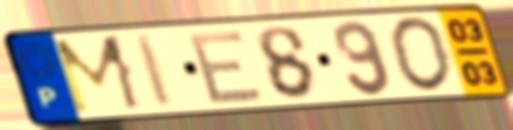8: (254, 25, 321, 102)
9: (331, 18, 395, 99)
E: (186, 26, 268, 106)
I: (132, 32, 177, 110)
M: (49, 32, 147, 118)
O: (387, 15, 455, 95)
